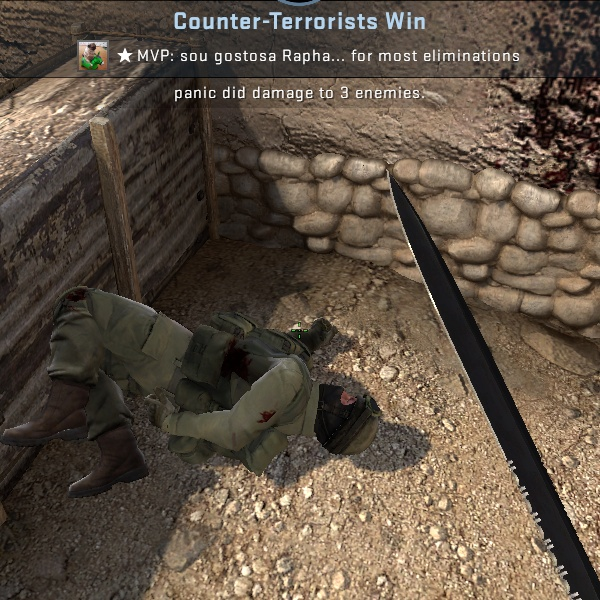ct_body: (30, 281, 336, 483)
